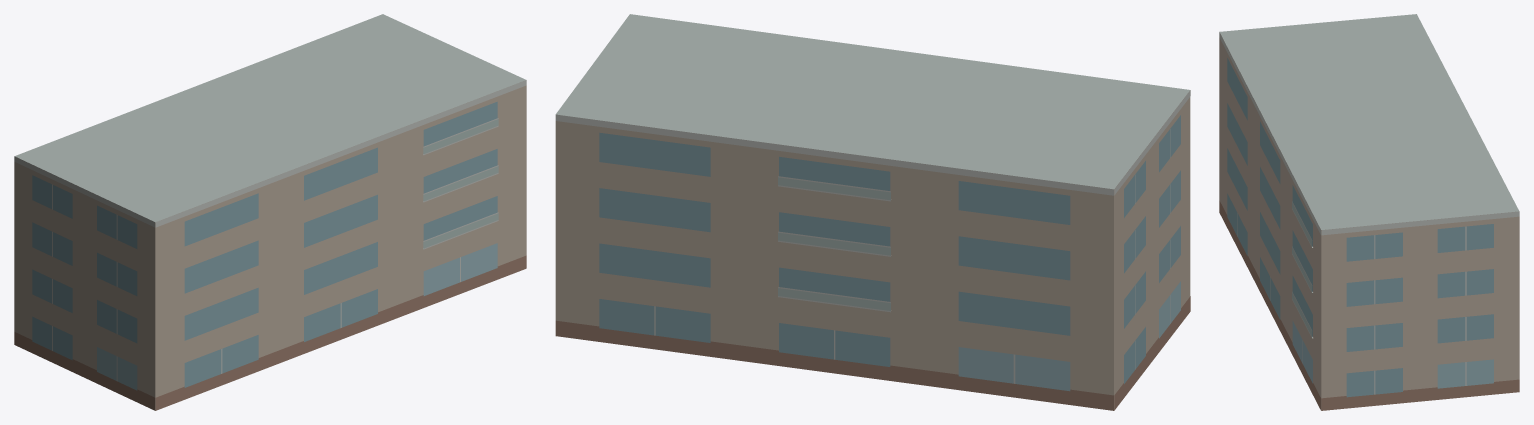
File: survey-upis-32697654.glb
3 renders of one model, left to right at view 1: azimuth 30°, elevation 25°; view 2: azimuth 150°, elevation 25°; view 3: azimuth 270°, elevation 25°, orthographic. The views are drawn at different scales.
Parts seen in each view (by area): view 1: survey-upis-32697654.tmp; view 2: survey-upis-32697654.tmp; view 3: survey-upis-32697654.tmp.
Boxes of the visible parts, x1,y1,x2,y2 form: survey-upis-32697654.tmp: [14, 14, 526, 410]; survey-upis-32697654.tmp: [555, 14, 1190, 410]; survey-upis-32697654.tmp: [1219, 14, 1519, 410].
Bounding box in the file's own units: 21.55 × 8.4 × 12.65.
